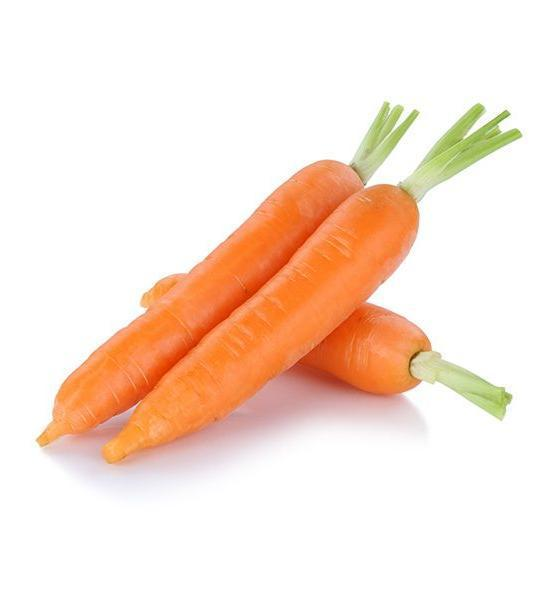carrot: (49, 127, 453, 462)
